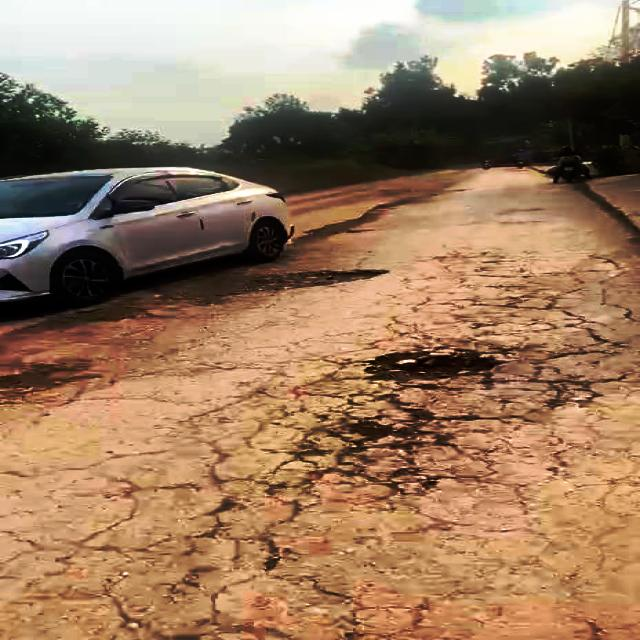pothole: (200, 265, 388, 298), (358, 345, 501, 382), (0, 358, 109, 396)
